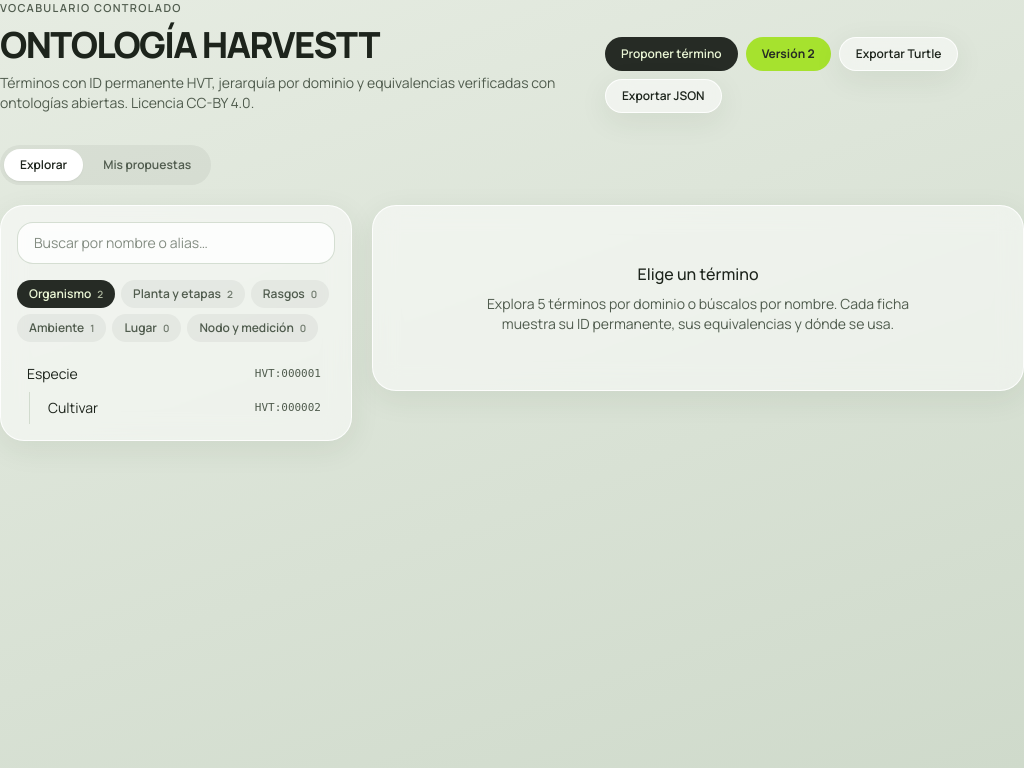
Test: 422 muestra el mensaje junto al campo
This screenshot has width=1024, height=768.
Expected: the list named "Términos de Organismo" is shown, x1=17 y1=358 x2=331 y2=424
Click the button "Proponer término" at (671, 54), box x1=605 y1=36 x2=738 y2=70
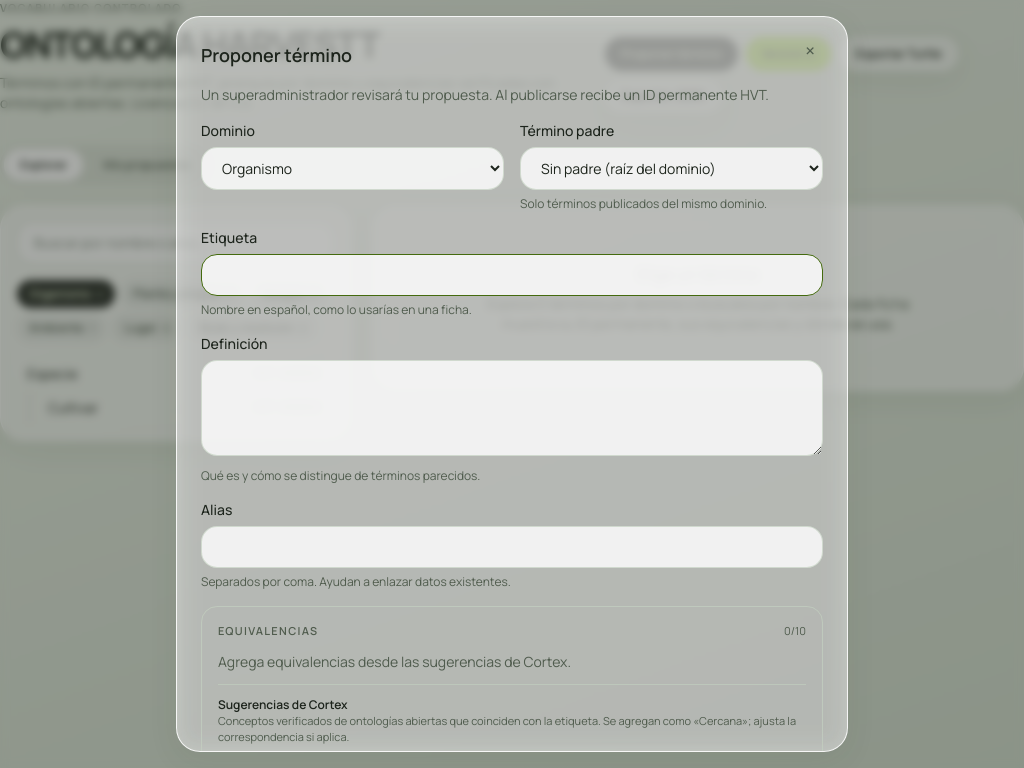
Type "Algo nuevo" into the field labelled "Etiqueta" at (512, 275), box x1=201 y1=254 x2=823 y2=296
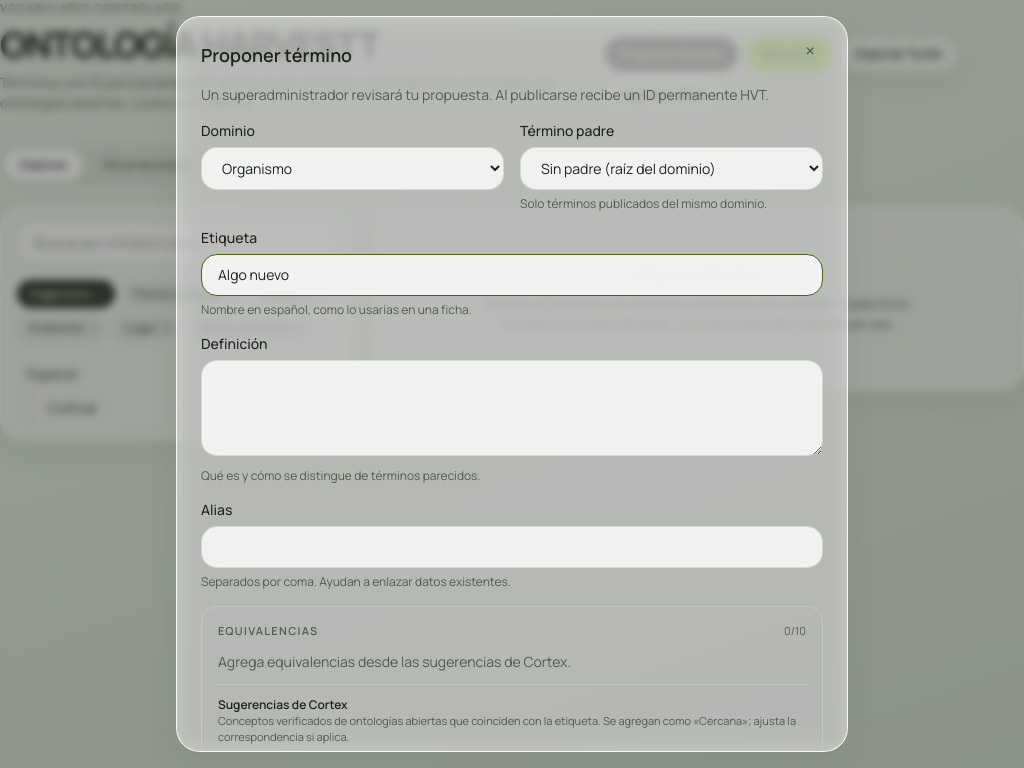
Type "Grupo de plantas de una misma especie con rasgos estables." into the text box labelled "Definición" at (512, 408), box x1=201 y1=360 x2=823 y2=456
(page scrolled)
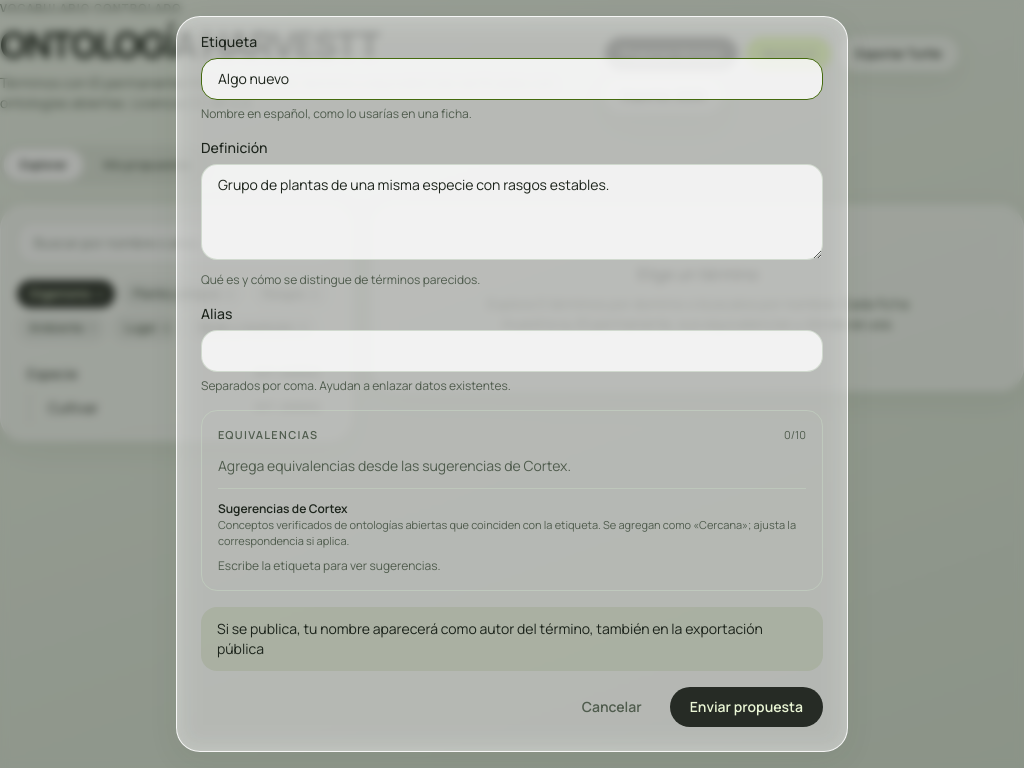
Click the button "Enviar propuesta" at (746, 706), box x1=670 y1=686 x2=823 y2=726
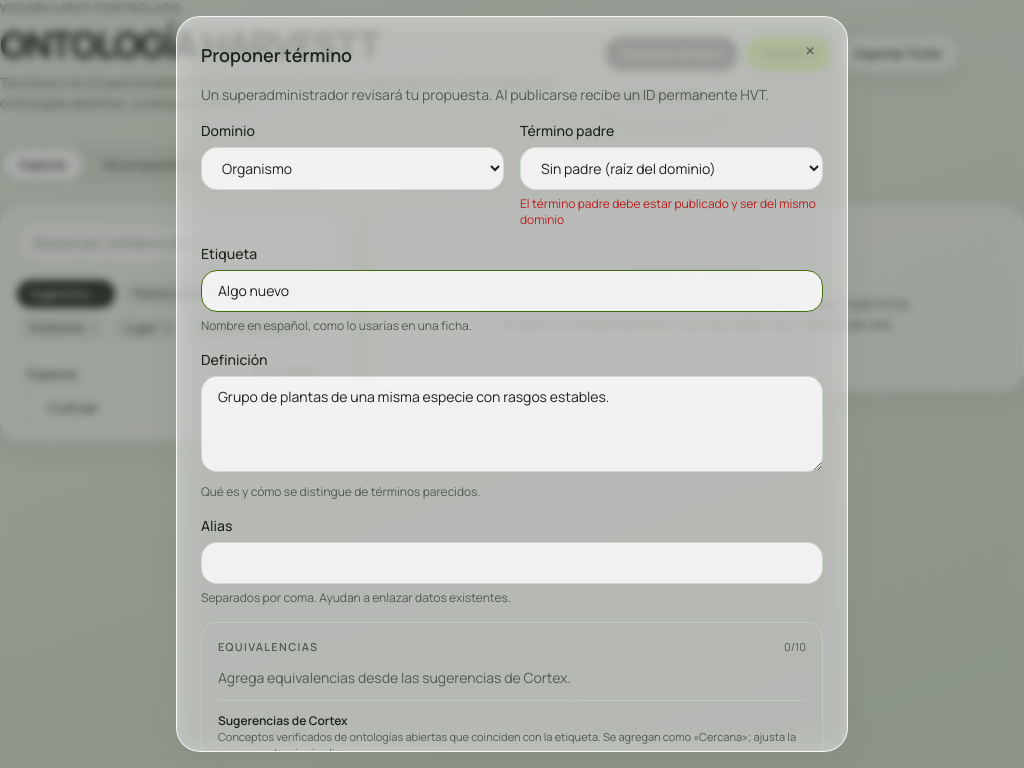
Expected: the text "El término padre debe estar publicado y ser del mismo dominio" is shown, x1=520 y1=196 x2=823 y2=228
